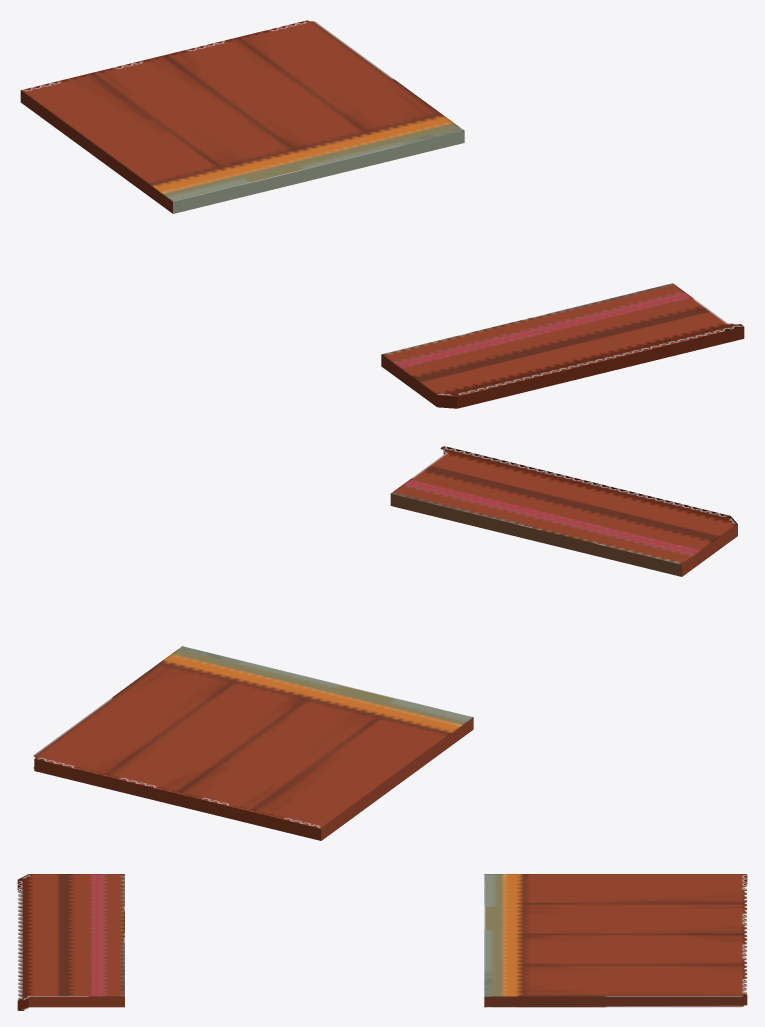
Rendered from pz_native_location_restaurant_spiffos_01_29_frame.obj.
3 renders of one model, top to bottom at view 1: azimuth 30°, elevation 25°; view 2: azimuth 150°, elevation 25°; view 3: azimuth 270°, elevation 25°, orthographic. The views are drawn at different scales.
Visible parts, largest first — view 1: pz_native_location_restaurant_spiffos_01_29_frame; view 2: pz_native_location_restaurant_spiffos_01_29_frame; view 3: pz_native_location_restaurant_spiffos_01_29_frame.
Part boxes in pixels (left/top/right/bottom): pz_native_location_restaurant_spiffos_01_29_frame: left=20, top=20, right=744, bottom=408; pz_native_location_restaurant_spiffos_01_29_frame: left=33, top=446, right=737, bottom=840; pz_native_location_restaurant_spiffos_01_29_frame: left=17, top=874, right=747, bottom=1010.
Bounding box in the file's own units: 1.06 × 0.04 × 2.54.
1 material, 1 textured.
